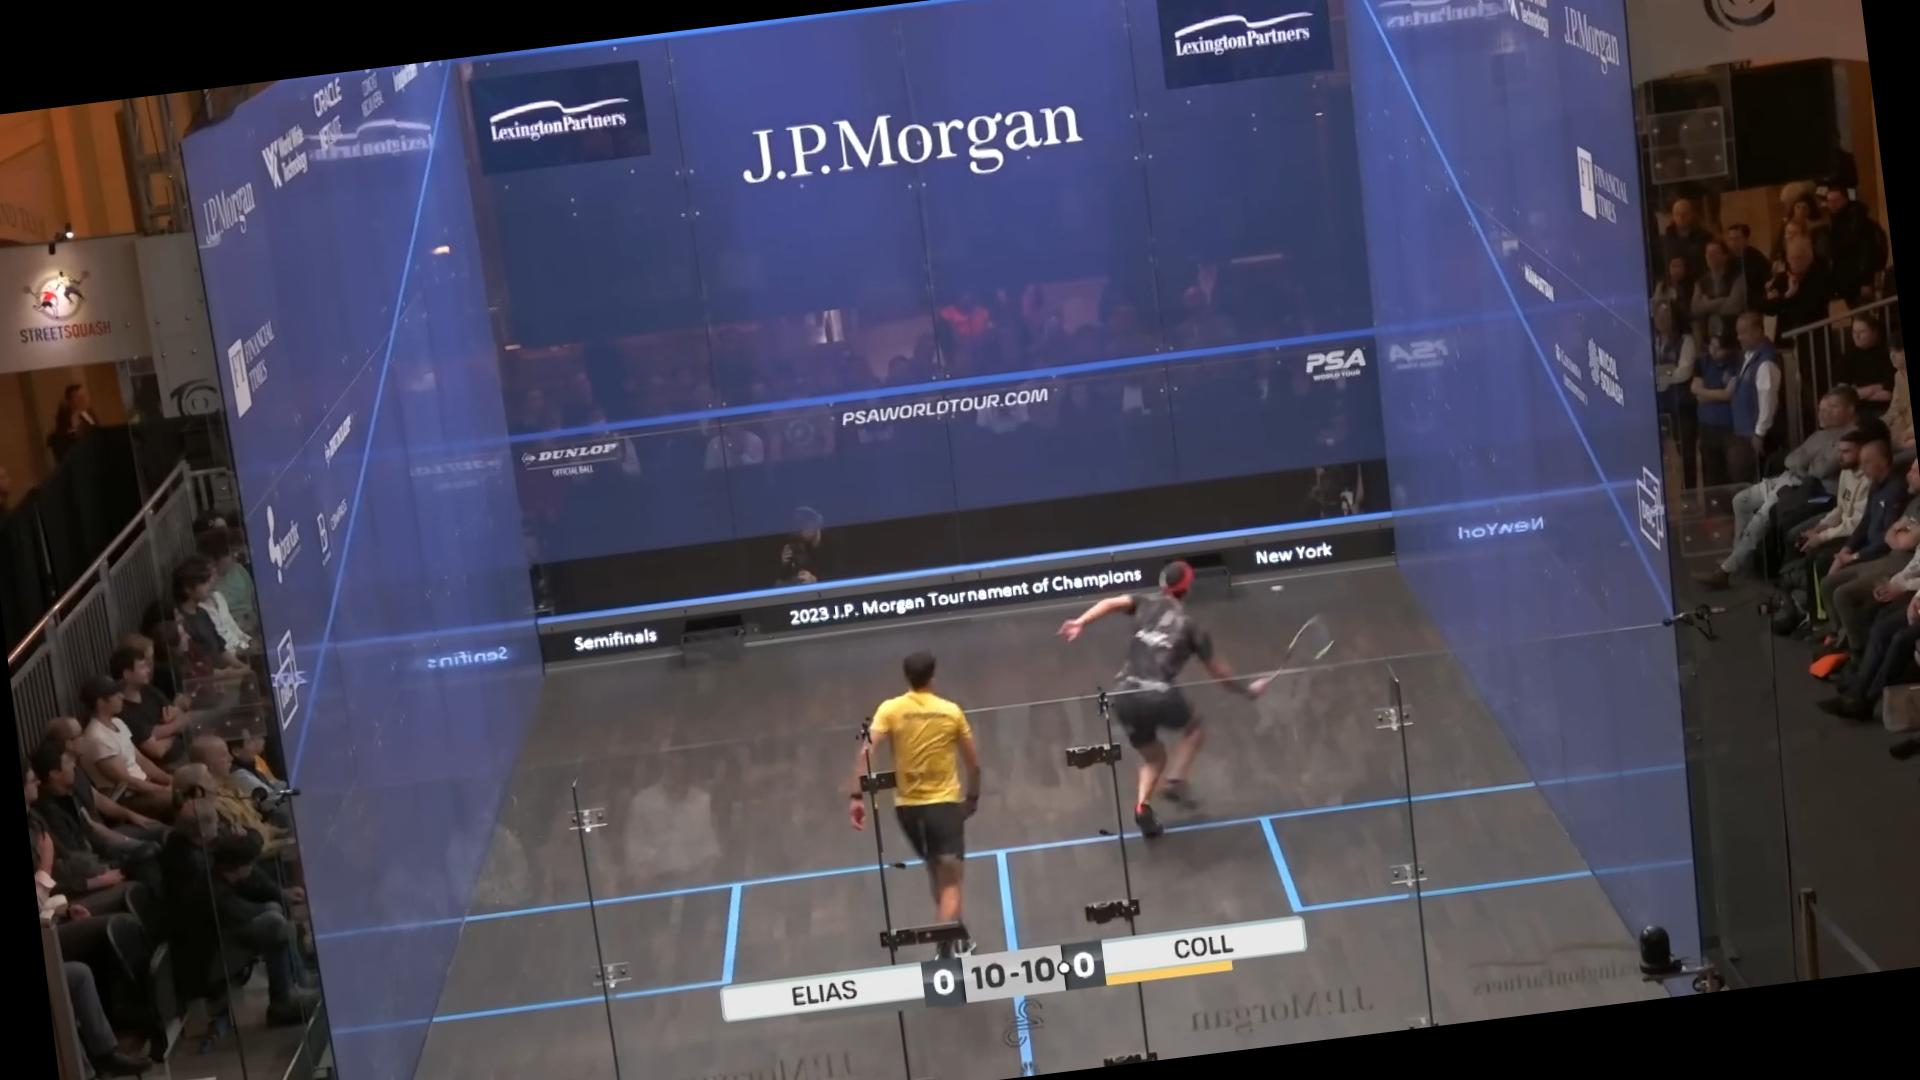Racket: (1244, 603, 1349, 695)
